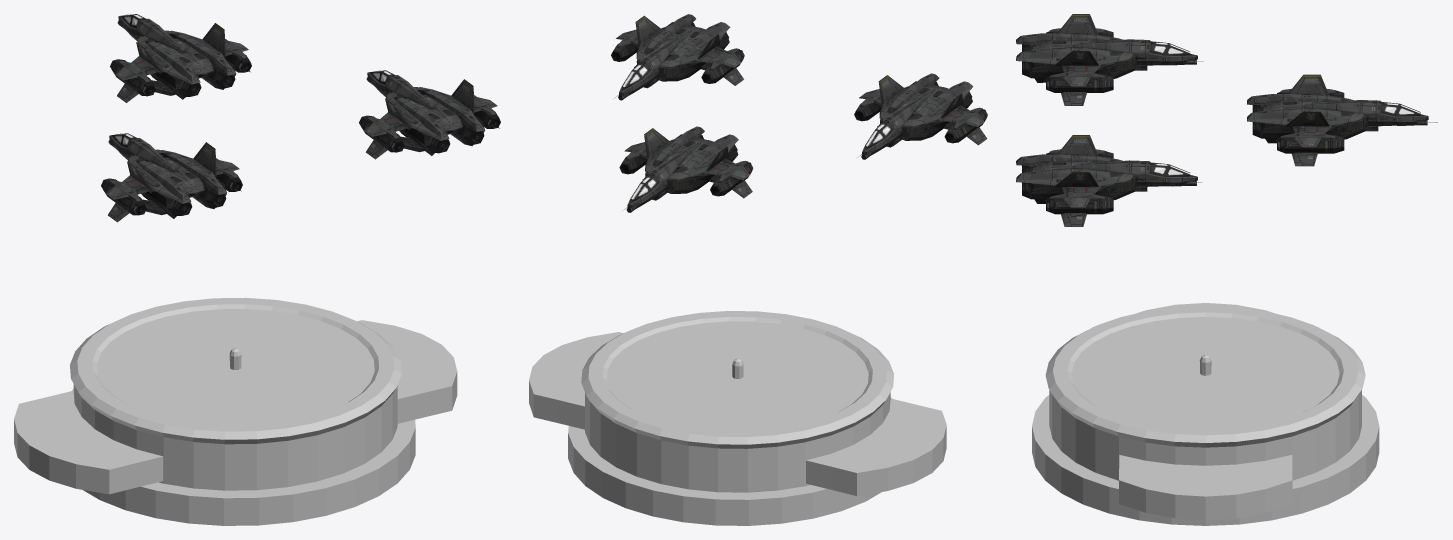
The model's file is sabre-armada.obj.
3 views of the same model, side by side, from view 1: azimuth 30°, elevation 25°; view 2: azimuth 150°, elevation 25°; view 3: azimuth 270°, elevation 25° (orthographic). The views are drawn at different scales.
Visible parts, largest first — view 1: Base_-_Squad_-_Base_pCylinder2_0.002, Base_-_Squad_-__Mode.001_Plane.010, Base_-Squad_-_Unique_Ring_Flat_Torus.008, FIGHTER_UNSCSABRE_FIGHTER_UNSCSABRE.005, FIGHTER_UNSCSABRE.001_FIGHTER_UNSCSABRE.004, FIGHTER_UNSCSABRE.002_FIGHTER_UNSCSABRE.003; view 2: Base_-_Squad_-_Base_pCylinder2_0.002, Base_-_Squad_-__Mode.001_Plane.010, Base_-Squad_-_Unique_Ring_Flat_Torus.008, FIGHTER_UNSCSABRE_FIGHTER_UNSCSABRE.005, FIGHTER_UNSCSABRE.002_FIGHTER_UNSCSABRE.003, FIGHTER_UNSCSABRE.001_FIGHTER_UNSCSABRE.004; view 3: Base_-_Squad_-_Base_pCylinder2_0.002, Base_-Squad_-_Unique_Ring_Flat_Torus.008, Base_-_Squad_-__Mode.001_Plane.010, FIGHTER_UNSCSABRE_FIGHTER_UNSCSABRE.005, FIGHTER_UNSCSABRE.001_FIGHTER_UNSCSABRE.004, FIGHTER_UNSCSABRE.002_FIGHTER_UNSCSABRE.003.
Boxes of the visible parts, x1,y1,x2,y2 form: Base_-_Squad_-_Base_pCylinder2_0.002: (72,309,415,525); Base_-_Squad_-__Mode.001_Plane.010: (14,320,457,494); Base_-Squad_-_Unique_Ring_Flat_Torus.008: (70,297,401,444); FIGHTER_UNSCSABRE_FIGHTER_UNSCSABRE.005: (110,14,251,102); FIGHTER_UNSCSABRE.001_FIGHTER_UNSCSABRE.004: (359,70,500,159); FIGHTER_UNSCSABRE.002_FIGHTER_UNSCSABRE.003: (101,133,242,222); Base_-_Squad_-_Base_pCylinder2_0.002: (568,321,892,525); Base_-_Squad_-__Mode.001_Plane.010: (529,332,946,496); Base_-Squad_-_Unique_Ring_Flat_Torus.008: (581,311,893,448); FIGHTER_UNSCSABRE_FIGHTER_UNSCSABRE.005: (619,126,753,212); FIGHTER_UNSCSABRE.002_FIGHTER_UNSCSABRE.003: (854,73,987,159); FIGHTER_UNSCSABRE.001_FIGHTER_UNSCSABRE.004: (611,14,744,100); Base_-_Squad_-_Base_pCylinder2_0.002: (1032,317,1379,525); Base_-Squad_-_Unique_Ring_Flat_Torus.008: (1045,306,1365,447); Base_-_Squad_-__Mode.001_Plane.010: (1119,303,1292,520); FIGHTER_UNSCSABRE_FIGHTER_UNSCSABRE.005: (1247,74,1437,166); FIGHTER_UNSCSABRE.001_FIGHTER_UNSCSABRE.004: (1016,135,1201,226); FIGHTER_UNSCSABRE.002_FIGHTER_UNSCSABRE.003: (1016,14,1203,105).
Size of the model in its own units: 1.56 by 1.35 by 1.44.
Materials: 5 (1 with a texture image).
